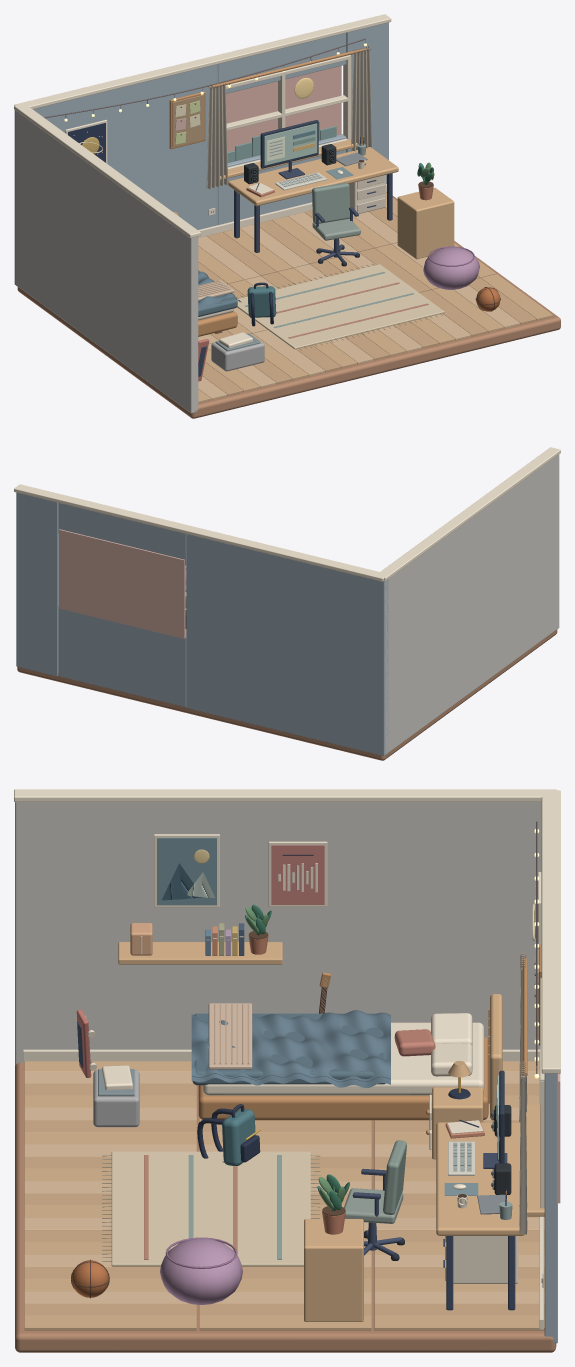
File: habitacion-adolescente.glb
3 views of the same model, one above another, from view 1: azimuth 30°, elevation 25°; view 2: azimuth 150°, elevation 25°; view 3: azimuth 270°, elevation 25° (orthographic). The views are drawn at different scales.
Parts seen in each view (by area): view 1: teen-bedroom; view 2: teen-bedroom; view 3: teen-bedroom.
Part boxes in pixels (x1,y1,x2,y2): teen-bedroom: (14,14,560,418); teen-bedroom: (14,447,560,760); teen-bedroom: (14,789,560,1352).
Size of the model in its own units: 6.85 by 3.27 by 5.66.
